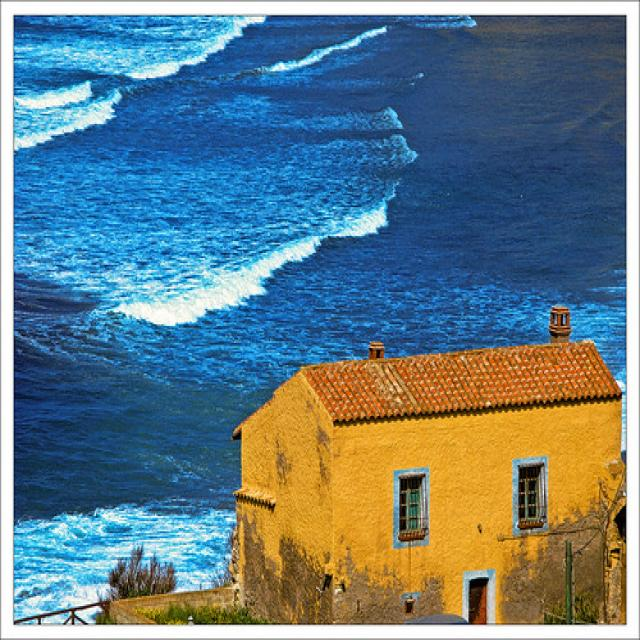Normal_building: (230, 305, 628, 622)
